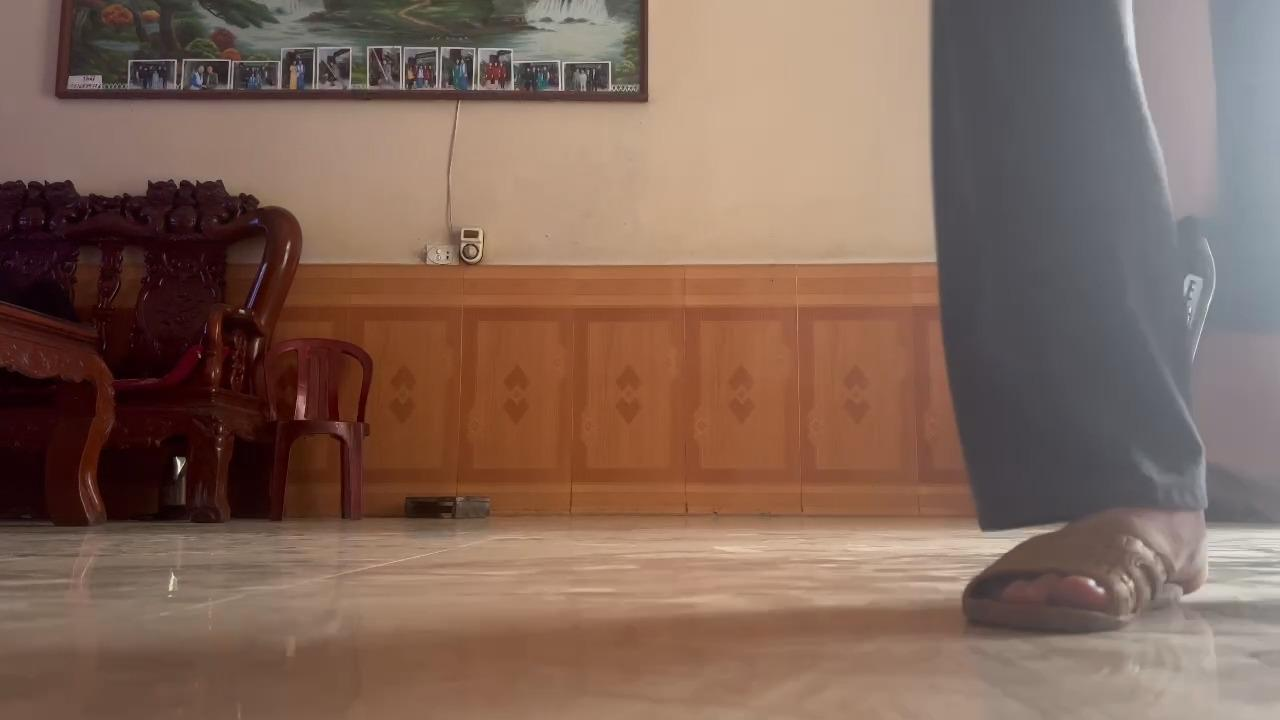no-boot: (957, 512, 1221, 644)
